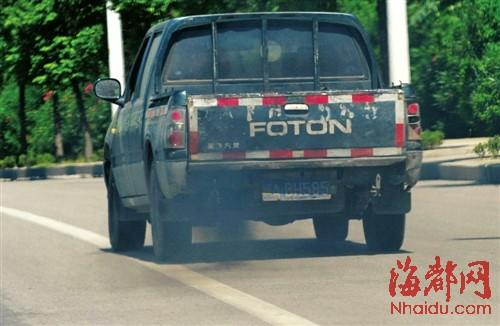smoke: (174, 197, 280, 273)
